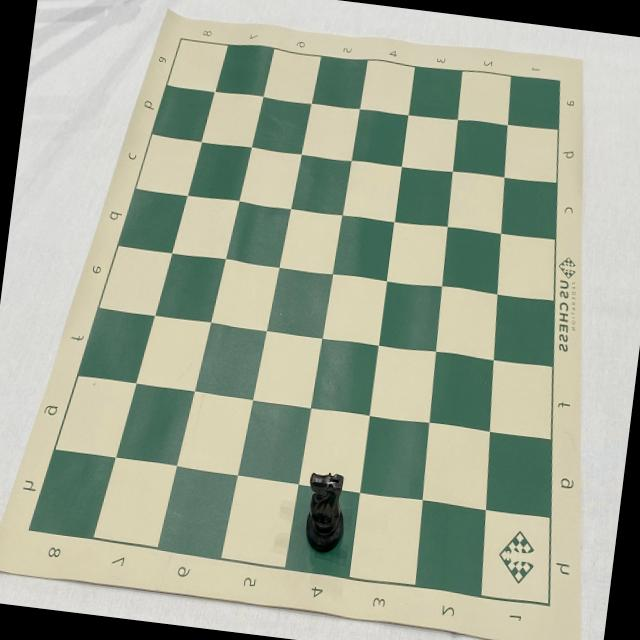black-knight: (300, 469, 350, 558)
